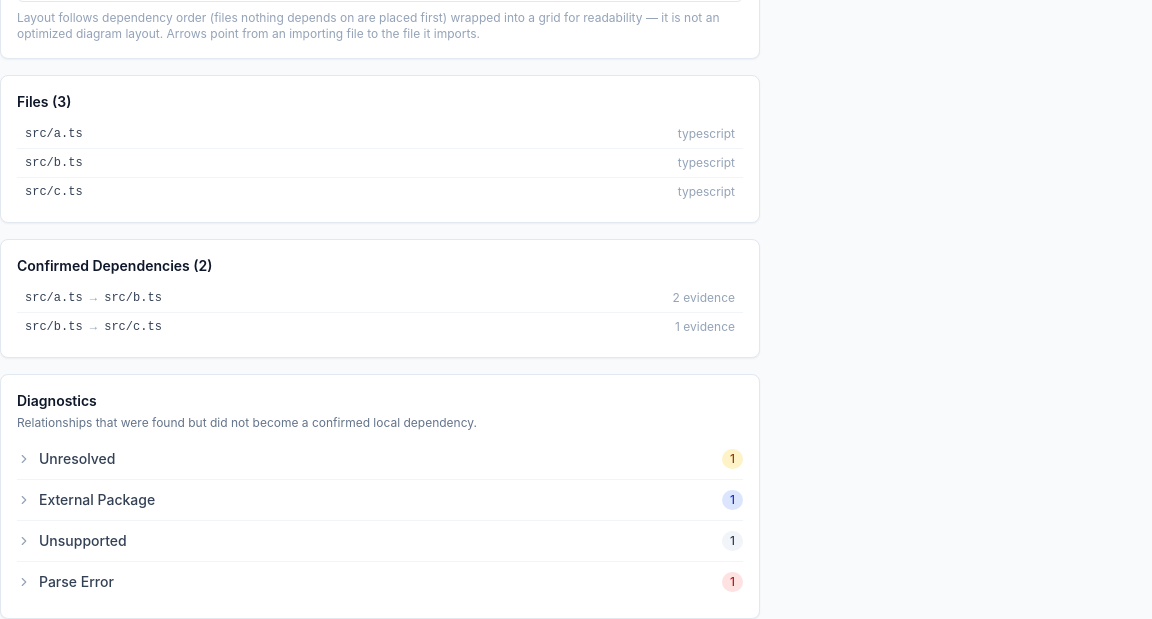
Test case: ProjectGraphTab › selecting an edge shows every merged evidence record, not just a count
(page scrolled)
Click the text "2 evidence" at x=707, y=298, box [497,284,743,312]
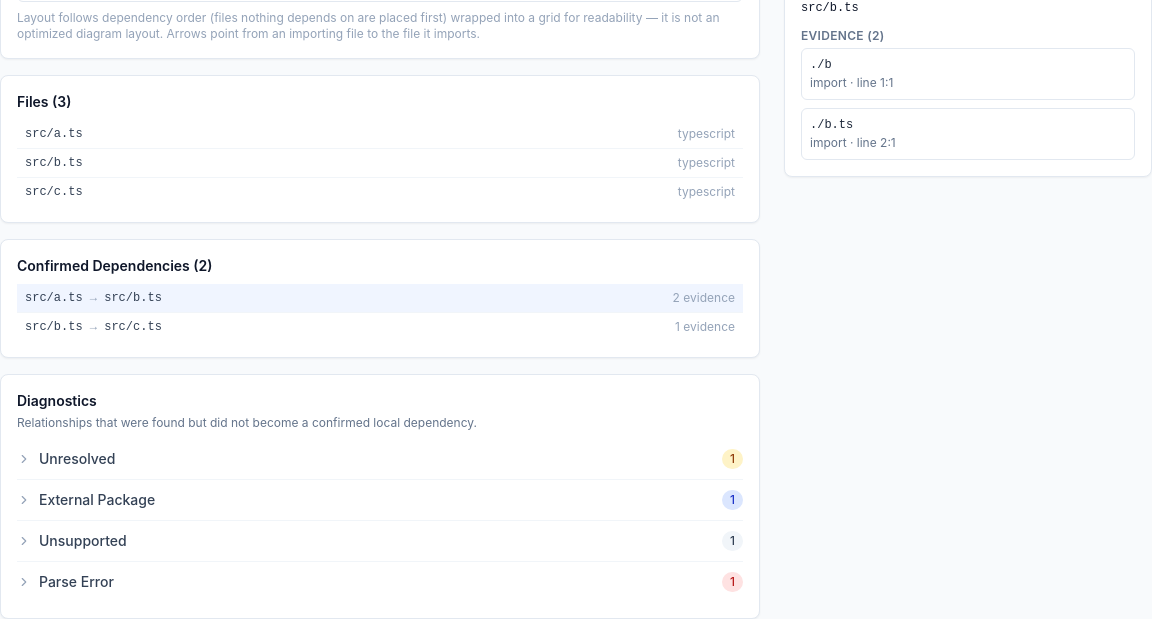
Expected: the text "./b" is shown, [810,58,832,72]
Expected: the text "./b.ts" is shown, [810,118,853,132]
